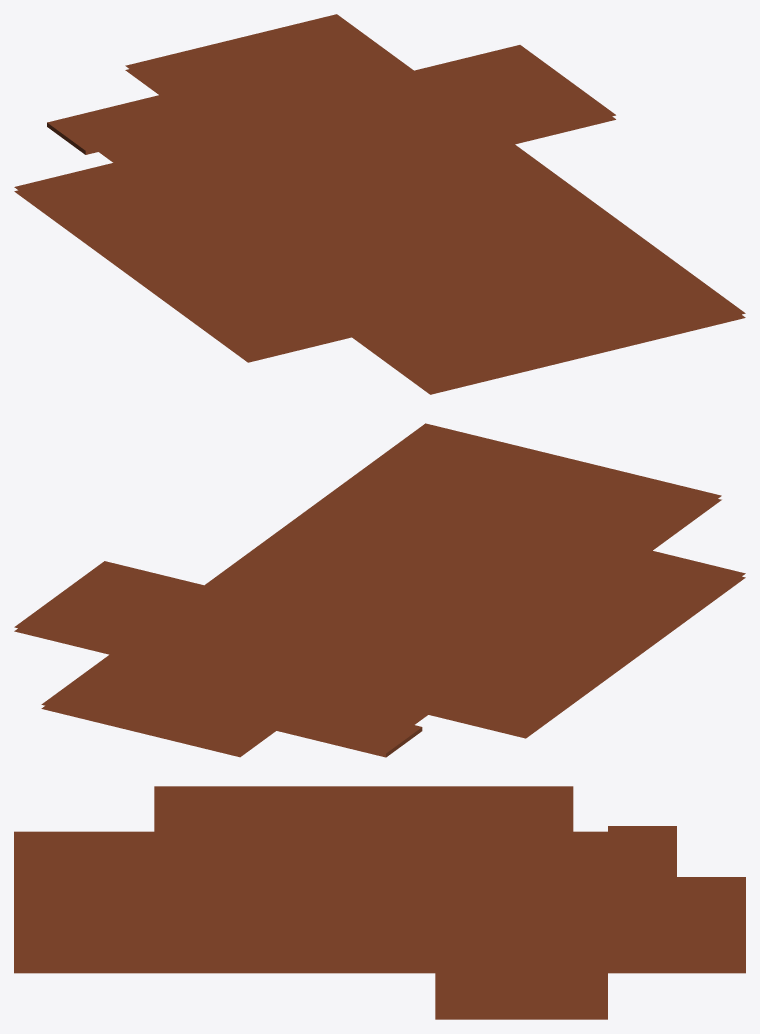
Rendered from Restaurant_Floor_NoTextures.fbx.
3 renders of one model, top to bottom at view 1: azimuth 30°, elevation 25°; view 2: azimuth 150°, elevation 25°; view 3: azimuth 270°, elevation 25°, orthographic. The views are drawn at different scales.
Visible parts, largest first — view 1: m_Floor; view 2: m_Floor; view 3: m_Floor.
Part boxes in pixels (x1,y1,x2,y2): m_Floor: (14,14,745,394); m_Floor: (14,423,745,757); m_Floor: (14,786,745,1019).
Bounding box in the file's own units: 3317 × 26.12 × 4471.
